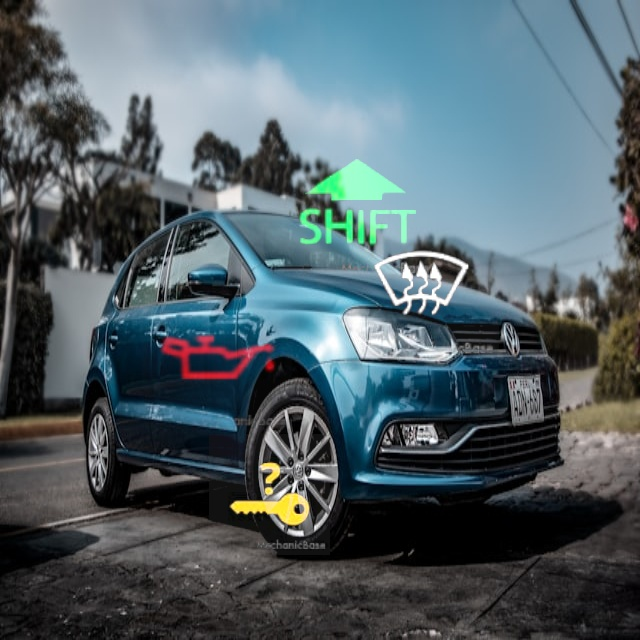symbol: (280, 126, 435, 281), (346, 208, 499, 361), (142, 283, 292, 433), (209, 434, 330, 555)
